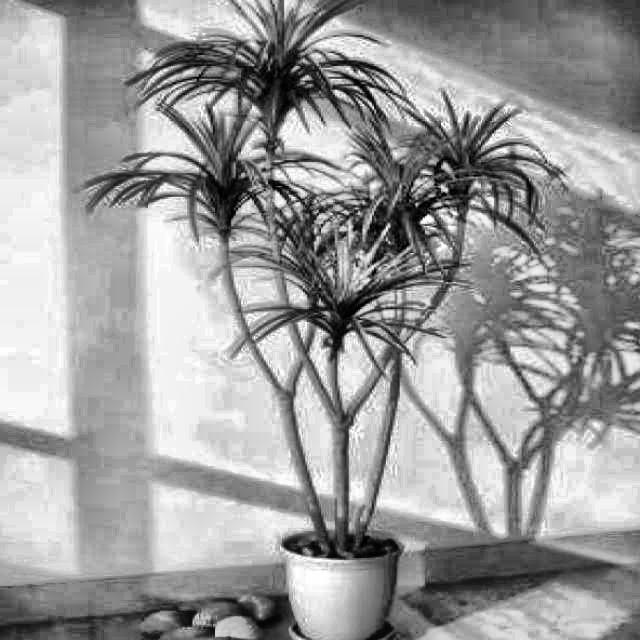plants: (108, 35, 490, 546)
